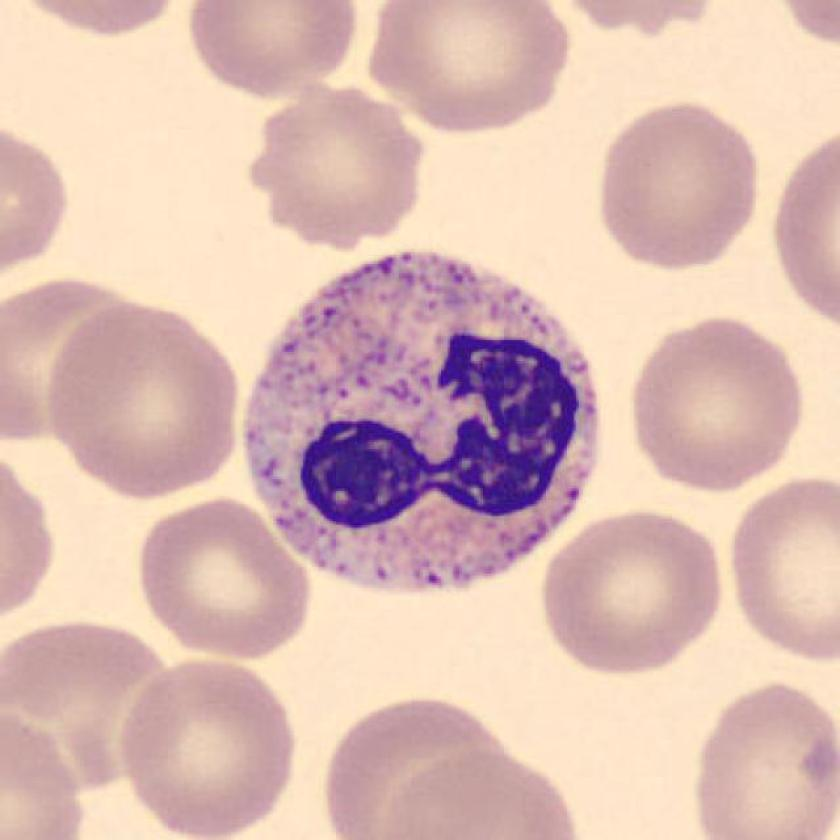neutrophil: (244, 251, 605, 591)
